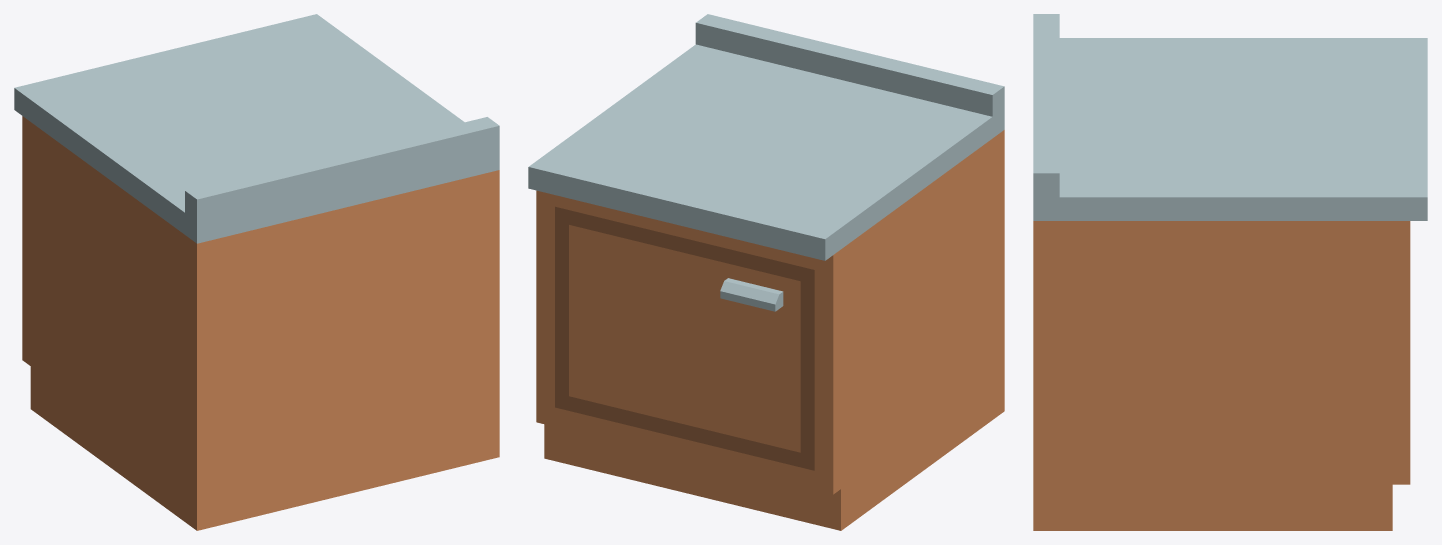
File: kitchen_cabinet.obj
3 renders of one model, left to right at view 1: azimuth 30°, elevation 25°; view 2: azimuth 150°, elevation 25°; view 3: azimuth 270°, elevation 25°, orthographic. The views are drawn at different scales.
Visible parts, largest first — view 1: kitchenCabinet:door1; view 2: kitchenCabinet:door1; view 3: kitchenCabinet:door1.
Part boxes in pixels (box(x1,y1,x2,y2)): kitchenCabinet:door1: box(14, 14, 499, 530); kitchenCabinet:door1: box(528, 14, 1004, 530); kitchenCabinet:door1: box(1033, 14, 1427, 530).
Bounding box in the file's own units: 0.43 × 0.45 × 0.45.
